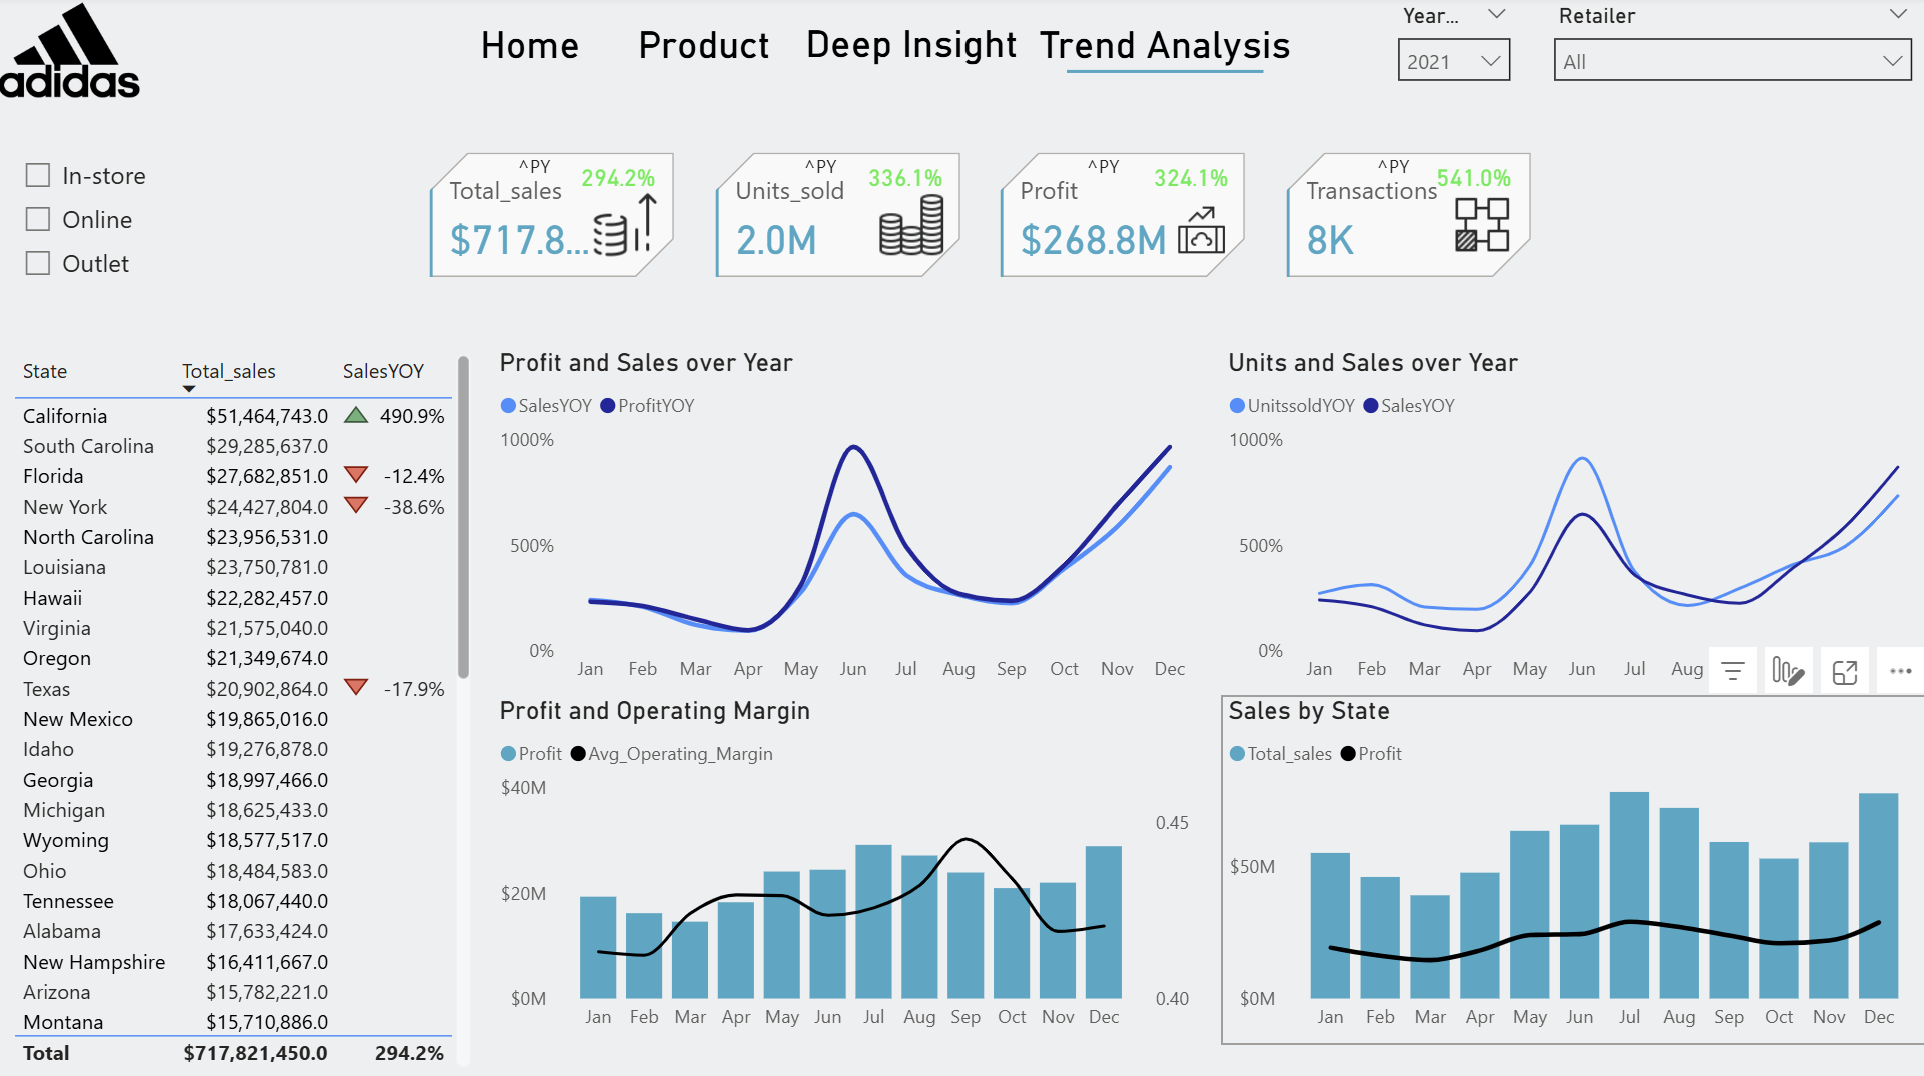

Layout of this report page (visuals, bound fields, positions):
{"tool":"powerbi","page":{"name":"Trend Analysis","canvas":[1280,720],"ordinal":3},"visuals":[{"type":"image","box":[0,0,112,72.5],"z":0},{"type":"slicer","fields":{"Values":["Data Sales Adidas.Sales Method"]},"box":[14.5,98.9,162.1,116],"z":1000},{"type":"slicer","fields":{"Values":["Calendar.YEAR"]},"box":[921.9,0,94,98.8],"z":2000},{"type":"cardVisual","fields":{"Data":["Data Sales Adidas.Total_sales"]},"box":[288.7,98.9,171.4,92.3],"z":3000},{"type":"cardVisual","fields":{"Data":["Data Sales Adidas.Units_sold"]},"box":[476.8,98.9,171.4,92.3],"z":4000},{"type":"cardVisual","fields":{"Data":["Data Sales Adidas.Profit"]},"box":[664.8,98.9,171.4,92.3],"z":5000},{"type":"cardVisual","fields":{"Data":["Data Sales Adidas.Trans_Count"]},"box":[852.9,98.9,171.4,92.3],"z":6000},{"type":"lineChart","title":"Profit and Sales over Year","fields":{"Category":["Calendar.Month"],"Y":["Data Sales Adidas.SalesYOY","Data Sales Adidas.ProfitYOY"]},"box":[335.4,231.7,465,230.1],"z":7000},{"type":"lineChart","title":"Units and Sales over Year","fields":{"Y":["Data Sales Adidas.UnitssoldYOY","Data Sales Adidas.SalesYOY"],"Category":["Calendar.Month"]},"box":[815,231.7,465,230.1],"z":8000},{"type":"lineStackedColumnComboChart","title":"Sales by State","fields":{"Y":["Data Sales Adidas.Total_sales"],"Category":["Calendar.Month"],"Y2":["Data Sales Adidas.Profit"]},"box":[815,461.8,465,230.1],"z":9000},{"type":"card","fields":{"Values":["Data Sales Adidas.SalesYOY"]},"box":[375,97.5,87.5,47.5],"z":10000},{"type":"card","fields":{"Values":["Data Sales Adidas.UnitssoldYOY"]},"box":[562.5,97.5,88.8,47.5],"z":11000},{"type":"card","fields":{"Values":["Data Sales Adidas.ProfitYOY"]},"box":[751.2,97.5,87.5,47.5],"z":12000},{"type":"card","fields":{"Values":["Data Sales Adidas.TransactionYOY"]},"box":[938.8,97.5,85,47.5],"z":13000},{"type":"textbox","box":[721.2,97.5,57.5,32.5],"z":14000},{"type":"textbox","box":[535,97.5,56.2,32.5],"z":15000},{"type":"textbox","box":[346.2,97.5,56.2,32.5],"z":16000},{"type":"textbox","box":[912.5,97.5,56.2,32.5],"z":17000},{"type":"lineStackedColumnComboChart","title":"Profit and Operating Margin","fields":{"Category":["Calendar.Month"],"Y":["Data Sales Adidas.Profit"],"Y2":["Data Sales Adidas.Avg_Operating_Margin"]},"box":[335.4,461.8,465,230.1],"z":18000},{"type":"tableEx","fields":{"Values":["Location.State","Data Sales Adidas.Total_sales","Data Sales Adidas.SalesYOY"]},"box":[15,232.3,310.9,479.6],"z":19000},{"type":"slicer","fields":{"Values":["Data Sales Adidas.Retailer"]},"box":[1024,0,256,98.8],"z":20000},{"type":"shape","box":[712.9,38.9,129.6,24.3],"z":21000},{"type":"actionButton","box":[309.5,11.3,100.5,40.5],"z":22000},{"type":"actionButton","box":[424.5,11.3,100.5,40.5],"z":23000},{"type":"actionButton","box":[525,13,173.4,35.6],"z":24000},{"type":"actionButton","box":[682.1,13,192.8,38.9],"z":25000}]}

Visuals, with their boxes on the page's 1280x720 design canvas (x1, y1, x2, y2). These are canvas units, not pixel positions in the 1924x1076 screenshot, which may show the page scaled, cropped or inside an application window:
image: {"left": 0, "top": 0, "right": 112, "bottom": 72}
slicer - Data Sales Adidas.Sales Method: {"left": 14, "top": 99, "right": 177, "bottom": 215}
slicer - Calendar.YEAR: {"left": 922, "top": 0, "right": 1016, "bottom": 99}
cardVisual - Data Sales Adidas.Total_sales: {"left": 289, "top": 99, "right": 460, "bottom": 191}
cardVisual - Data Sales Adidas.Units_sold: {"left": 477, "top": 99, "right": 648, "bottom": 191}
cardVisual - Data Sales Adidas.Profit: {"left": 665, "top": 99, "right": 836, "bottom": 191}
cardVisual - Data Sales Adidas.Trans_Count: {"left": 853, "top": 99, "right": 1024, "bottom": 191}
"Profit and Sales over Year" lineChart: {"left": 335, "top": 232, "right": 800, "bottom": 462}
"Units and Sales over Year" lineChart: {"left": 815, "top": 232, "right": 1280, "bottom": 462}
"Sales by State" lineStackedColumnComboChart: {"left": 815, "top": 462, "right": 1280, "bottom": 692}
card - Data Sales Adidas.SalesYOY: {"left": 375, "top": 98, "right": 462, "bottom": 145}
card - Data Sales Adidas.UnitssoldYOY: {"left": 562, "top": 98, "right": 651, "bottom": 145}
card - Data Sales Adidas.ProfitYOY: {"left": 751, "top": 98, "right": 839, "bottom": 145}
card - Data Sales Adidas.TransactionYOY: {"left": 939, "top": 98, "right": 1024, "bottom": 145}
textbox: {"left": 721, "top": 98, "right": 779, "bottom": 130}
textbox: {"left": 535, "top": 98, "right": 591, "bottom": 130}
textbox: {"left": 346, "top": 98, "right": 402, "bottom": 130}
textbox: {"left": 912, "top": 98, "right": 969, "bottom": 130}
"Profit and Operating Margin" lineStackedColumnComboChart: {"left": 335, "top": 462, "right": 800, "bottom": 692}
tableEx - Location.State x Data Sales Adidas.Total_sales: {"left": 15, "top": 232, "right": 326, "bottom": 712}
slicer - Data Sales Adidas.Retailer: {"left": 1024, "top": 0, "right": 1280, "bottom": 99}
shape: {"left": 713, "top": 39, "right": 842, "bottom": 63}
actionButton: {"left": 310, "top": 11, "right": 410, "bottom": 52}
actionButton: {"left": 424, "top": 11, "right": 525, "bottom": 52}
actionButton: {"left": 525, "top": 13, "right": 698, "bottom": 49}
actionButton: {"left": 682, "top": 13, "right": 875, "bottom": 52}
